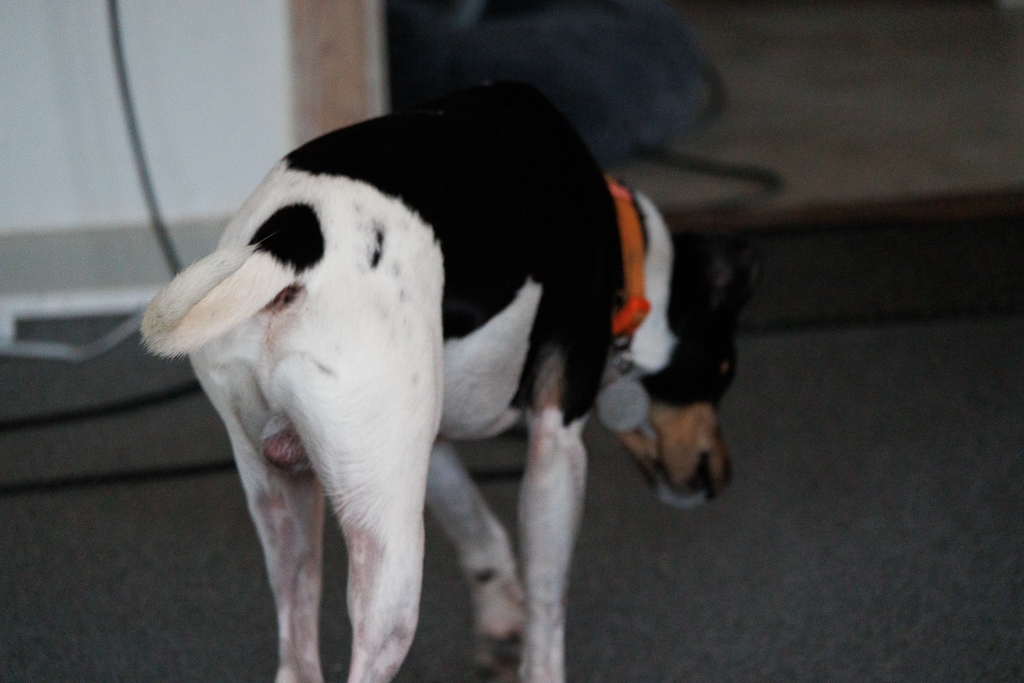Dog: (126, 61, 795, 683)
